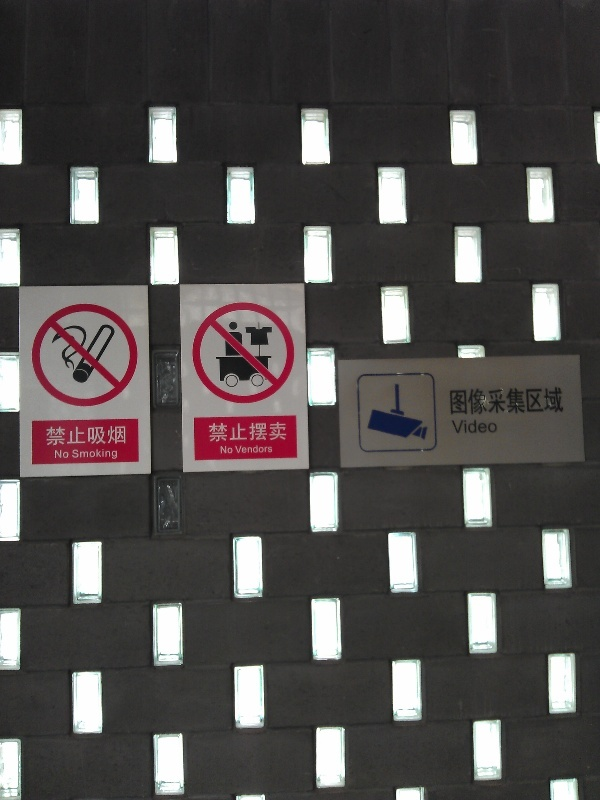text: (449, 387, 464, 416), (465, 387, 480, 416), (481, 387, 496, 416), (497, 387, 512, 416), (513, 387, 528, 416), (529, 387, 544, 416), (545, 387, 560, 416), (209, 421, 224, 444), (225, 421, 240, 444), (241, 421, 256, 444), (257, 421, 272, 444), (273, 421, 288, 444), (49, 426, 64, 446), (65, 426, 80, 446), (81, 426, 96, 446), (97, 426, 112, 446), (113, 426, 127, 446), (465, 417, 480, 435), (481, 417, 496, 435), (452, 417, 464, 435), (81, 448, 96, 461), (97, 448, 112, 461), (241, 444, 256, 455), (257, 444, 272, 455), (72, 448, 80, 461), (561, 387, 564, 416), (55, 450, 64, 459), (225, 446, 234, 454), (113, 448, 118, 461), (235, 444, 240, 455), (46, 426, 48, 446), (497, 417, 499, 435), (65, 450, 69, 459), (220, 446, 224, 454), (273, 444, 274, 455)
